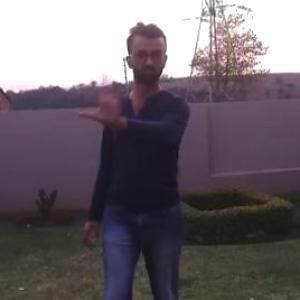follow_hand: (77, 70, 130, 126)
